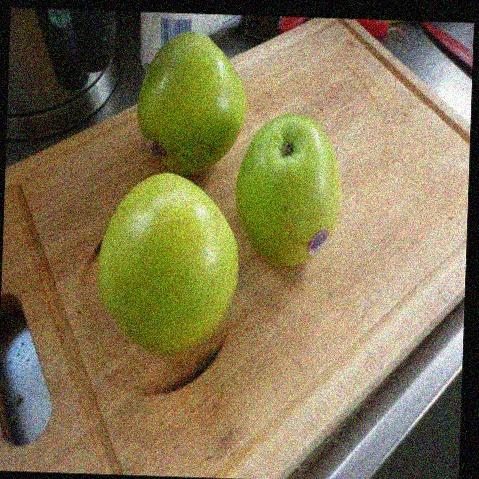green apple: (92, 173, 243, 363), (131, 28, 244, 181), (234, 111, 344, 264)
